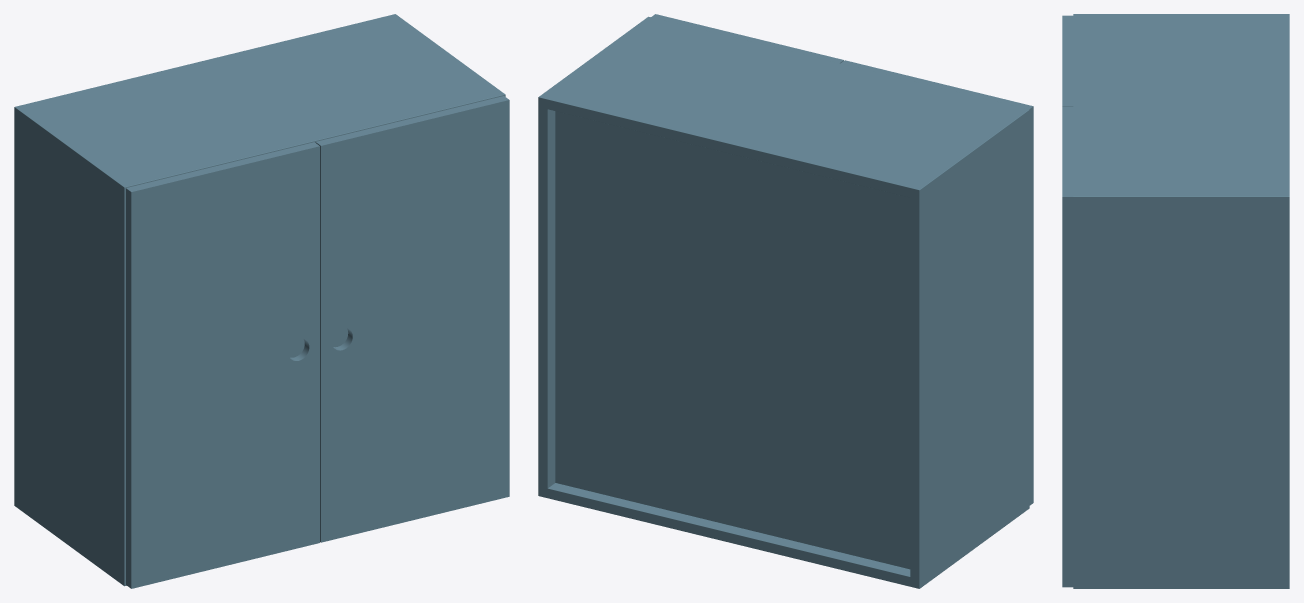
Rendered from MOD-2X2-DD-B-AC.glb.
3 renders of one model, left to right at view 1: azimuth 30°, elevation 25°; view 2: azimuth 150°, elevation 25°; view 3: azimuth 270°, elevation 25°, orthographic.
Size of the model in its own units: 720 by 720 by 378.
